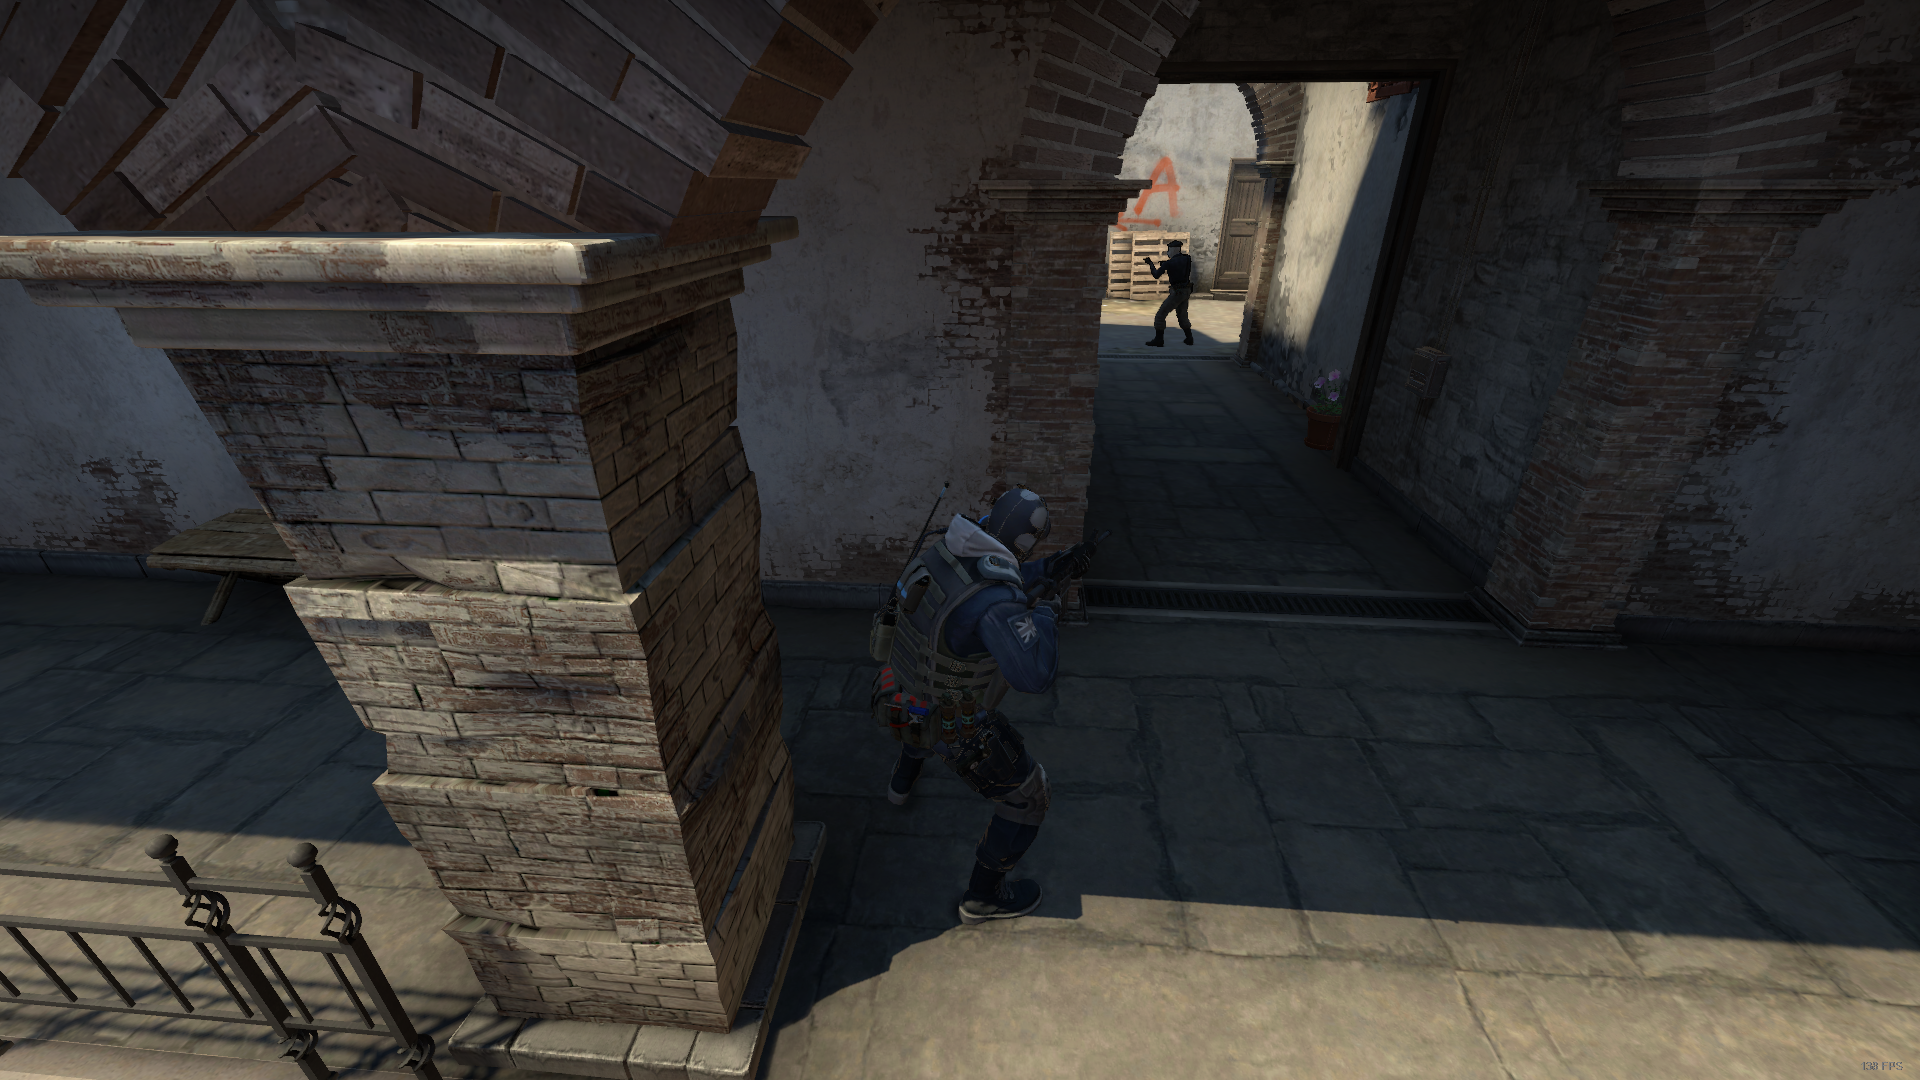ct: (872, 487, 1063, 924)
t: (1143, 241, 1193, 348)
